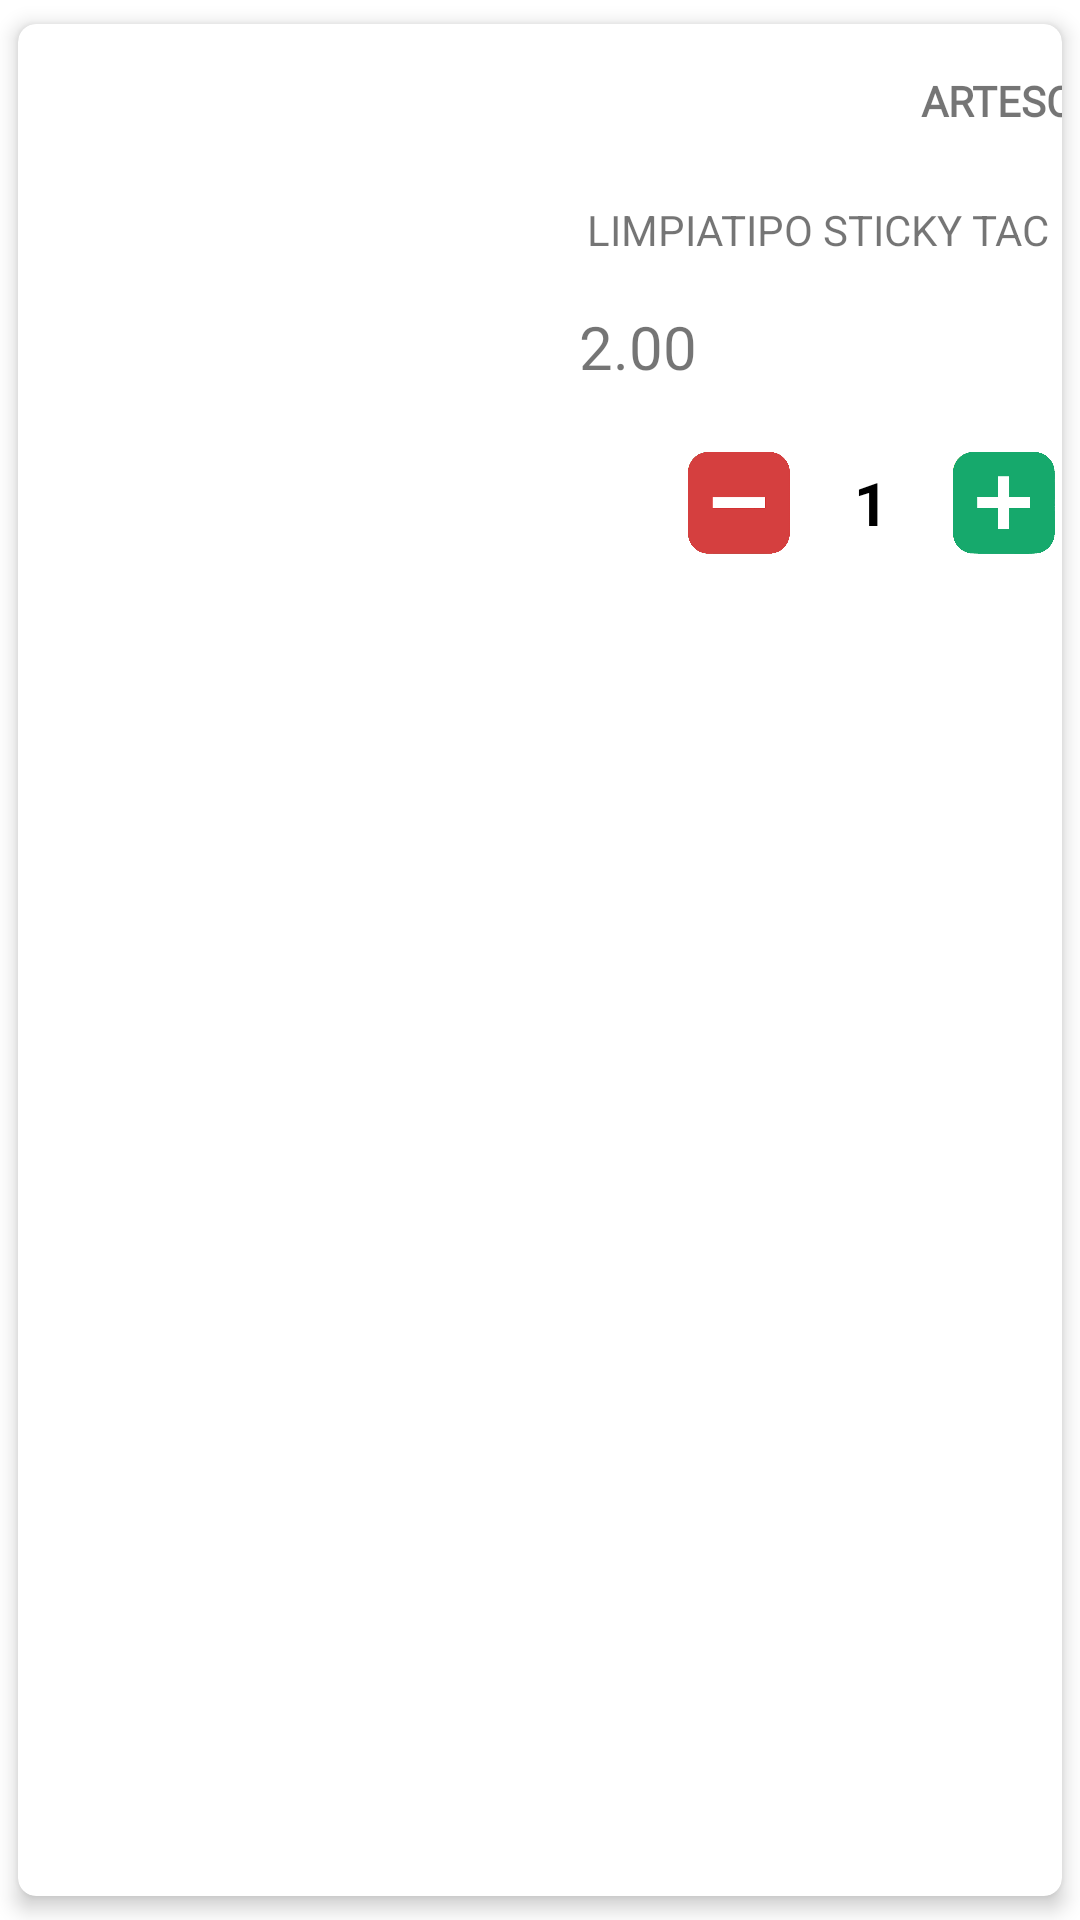

Icon bounding boxes for this 1080w x 1920h phone screenshot, format (x1, y1, x2, y2):
mas: (953, 452, 1055, 554)
menos: (688, 452, 790, 554)
